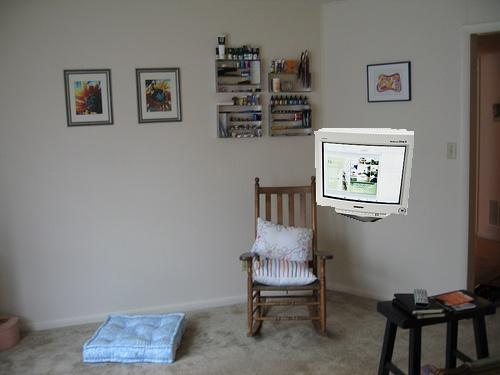tampered: (315, 129, 414, 222)
